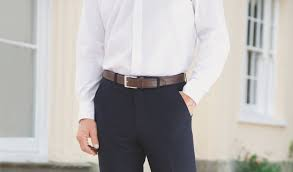F_belt: (100, 64, 192, 94)
F_dress pants: (88, 83, 200, 172)
F_shirt: (72, 1, 229, 119)
